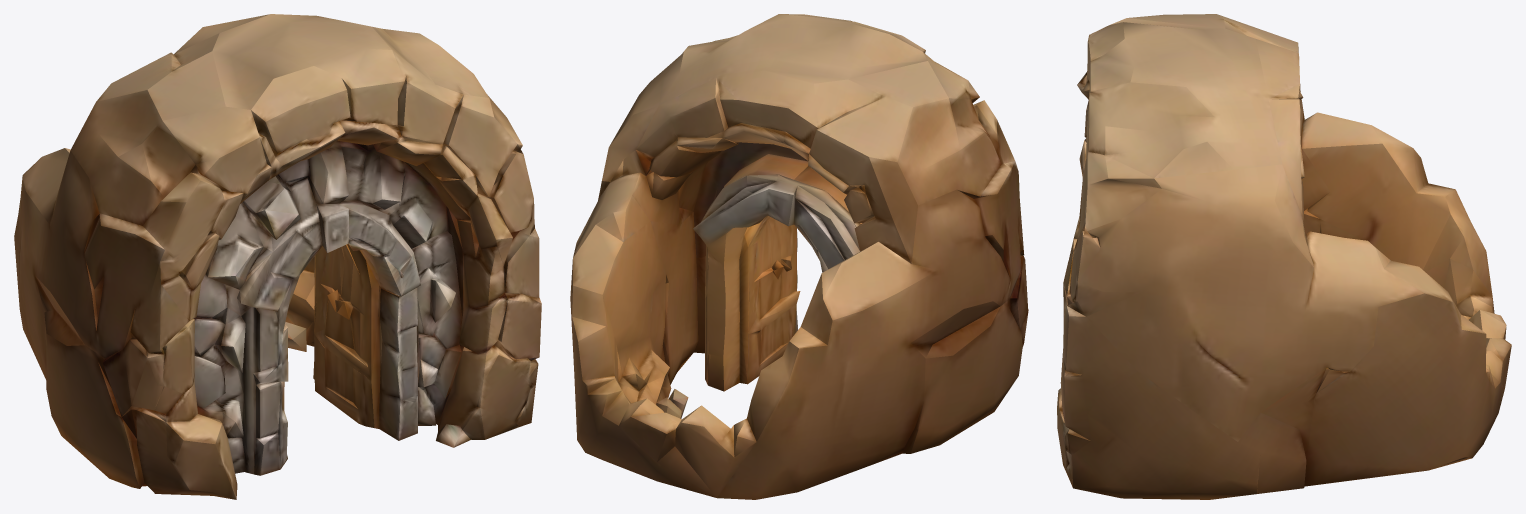
The model's file is m2CaveGate.glb.
3 views of the same model, side by side, from view 1: azimuth 30°, elevation 25°; view 2: azimuth 150°, elevation 25°; view 3: azimuth 270°, elevation 25° (orthographic). The views are drawn at different scales.
Visible parts, largest first — view 1: model; view 2: model; view 3: model.
Boxes of the visible parts, x1,y1,x2,y2 form: model: (14, 14, 541, 499); model: (570, 14, 1028, 499); model: (1057, 14, 1511, 499).
Size of the model in its own units: 1.91 by 1.65 by 1.84.
1 material, 1 textured.
